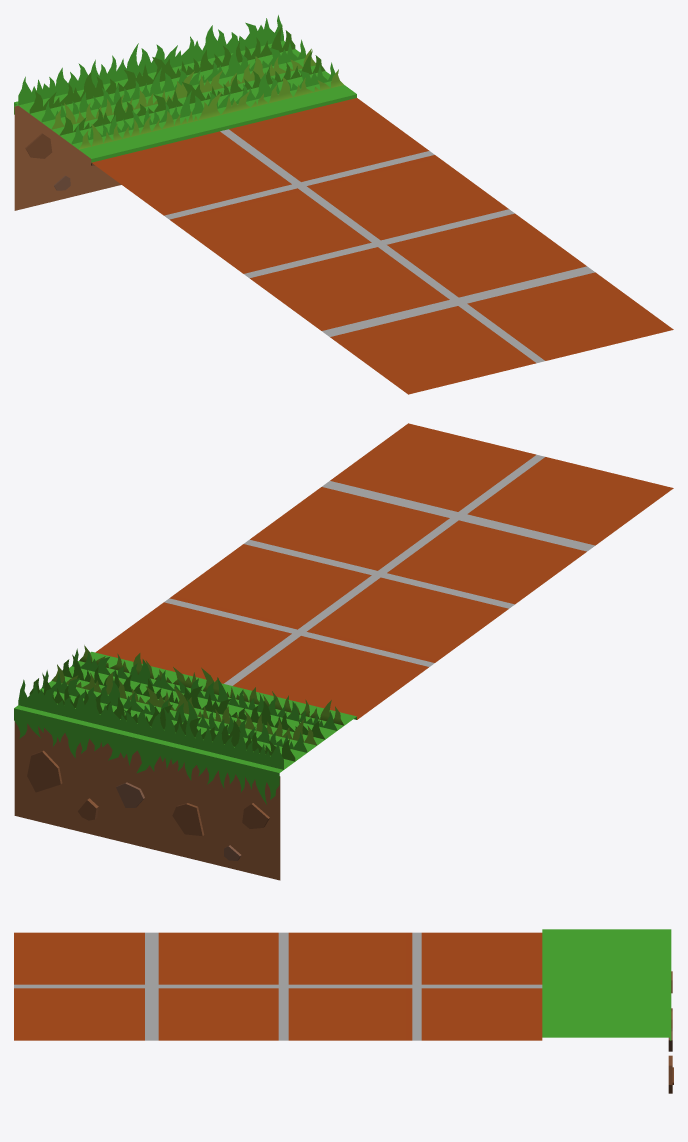
The model's file is ground_start_01.fbx.
3 renders of one model, top to bottom at view 1: azimuth 30°, elevation 25°; view 2: azimuth 150°, elevation 25°; view 3: azimuth 270°, elevation 25°, orthographic. The views are drawn at different scales.
Visible parts, largest first — view 1: ground_start_01, ground_start_grass_01; view 2: ground_start_01, ground_start_grass_01; view 3: ground_start_01.
Part boxes in pixels (<box>): ground_start_01: <box>14,40,673,394</box>; ground_start_grass_01: <box>14,15,343,149</box>; ground_start_01: <box>14,423,673,880</box>; ground_start_grass_01: <box>14,645,344,804</box>; ground_start_01: <box>14,929,673,1093</box>.
Size of the model in its own units: 595 by 303 by 1537.
